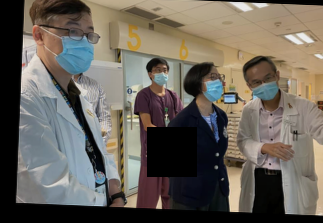with_mask: (42, 20, 95, 75), (246, 73, 279, 100), (201, 70, 224, 101), (150, 66, 169, 86)
